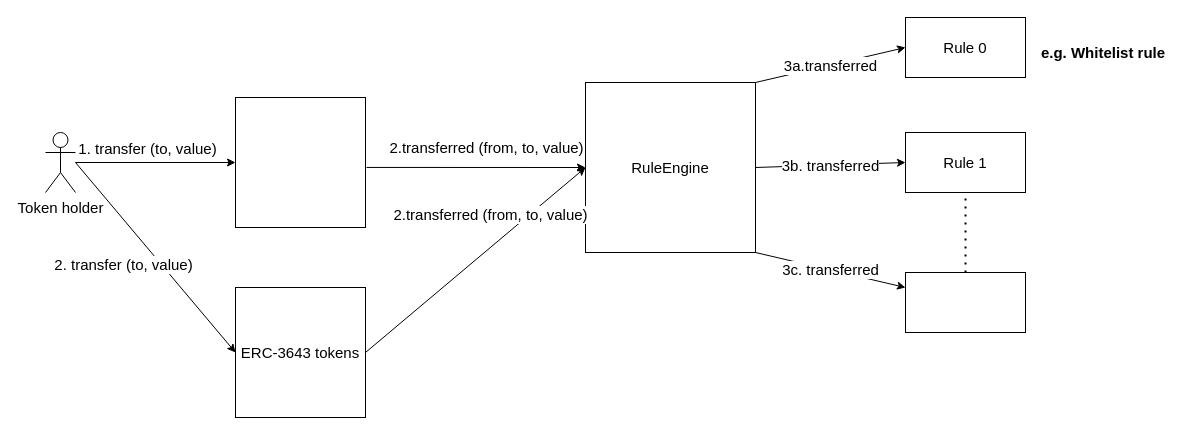
This 1190x435 diagram has some shape labels left out. Each missing label, with the box of its shape:
CMTAT: (234, 96, 366, 228)
Rule n: (904, 272, 1026, 332)
